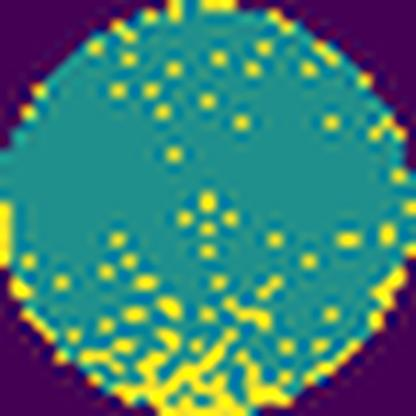Edge-Loc: (103, 322, 258, 415), (236, 345, 293, 406)
